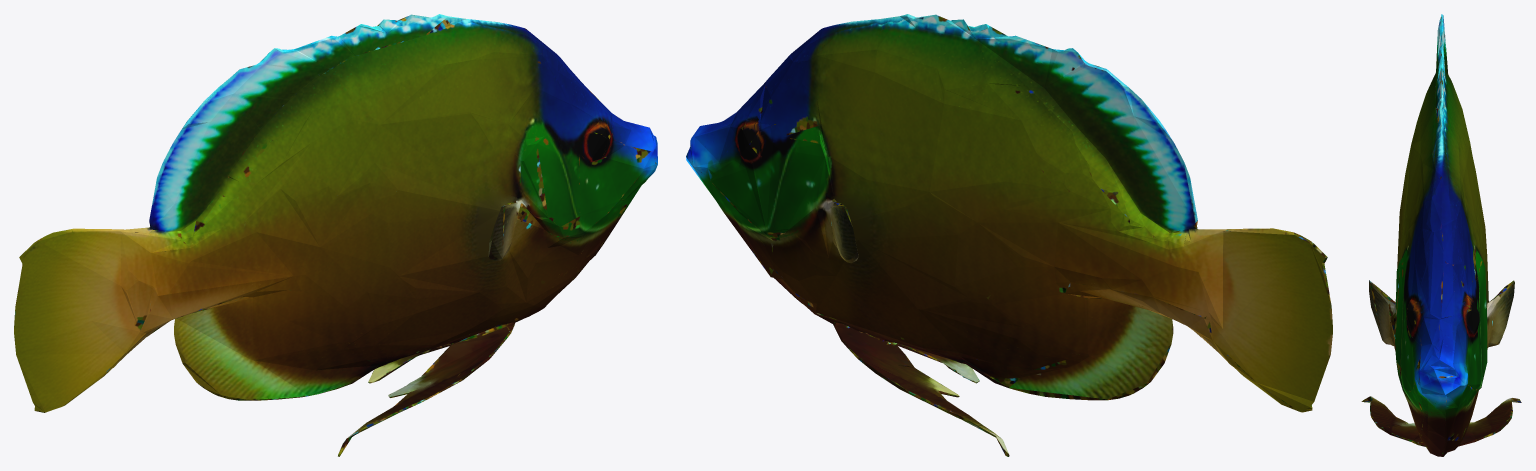
The model's file is fish_0122_smpl23_resized.glb.
The picture shows the model from 3 angles, left to right: view 1: azimuth 30°, elevation 25°; view 2: azimuth 150°, elevation 25°; view 3: azimuth 270°, elevation 25°; orthographic projection. The views are drawn at different scales.
Parts seen in each view (by area): view 1: world; view 2: world; view 3: world.
Boxes of the visible parts, x1=… form: world: x1=14, y1=14, x2=657, y2=456; world: x1=686, y1=14, x2=1332, y2=456; world: x1=1361, y1=14, x2=1521, y2=456.
Bounding box in the file's own units: 1.99 × 1.15 × 0.4412.
1 material, 1 textured.
